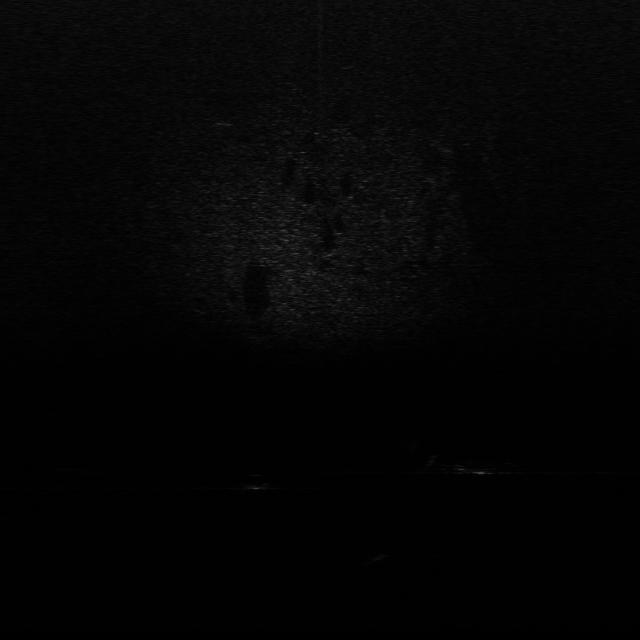ball: (238, 470, 274, 495)
circle cage: (354, 551, 410, 579)
human body: (420, 450, 524, 481)
